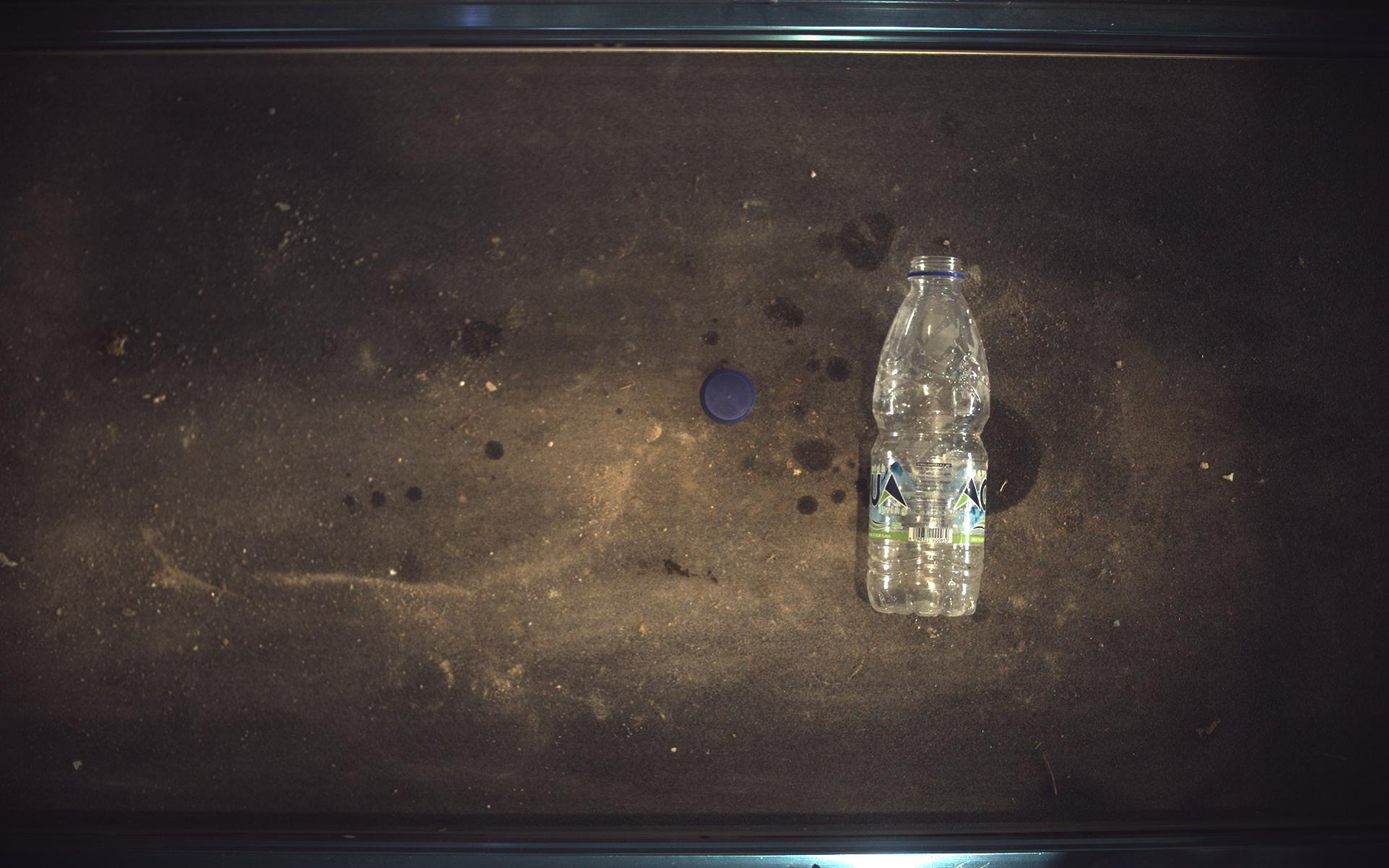general_w: (868, 255, 992, 618), (702, 369, 757, 424)
